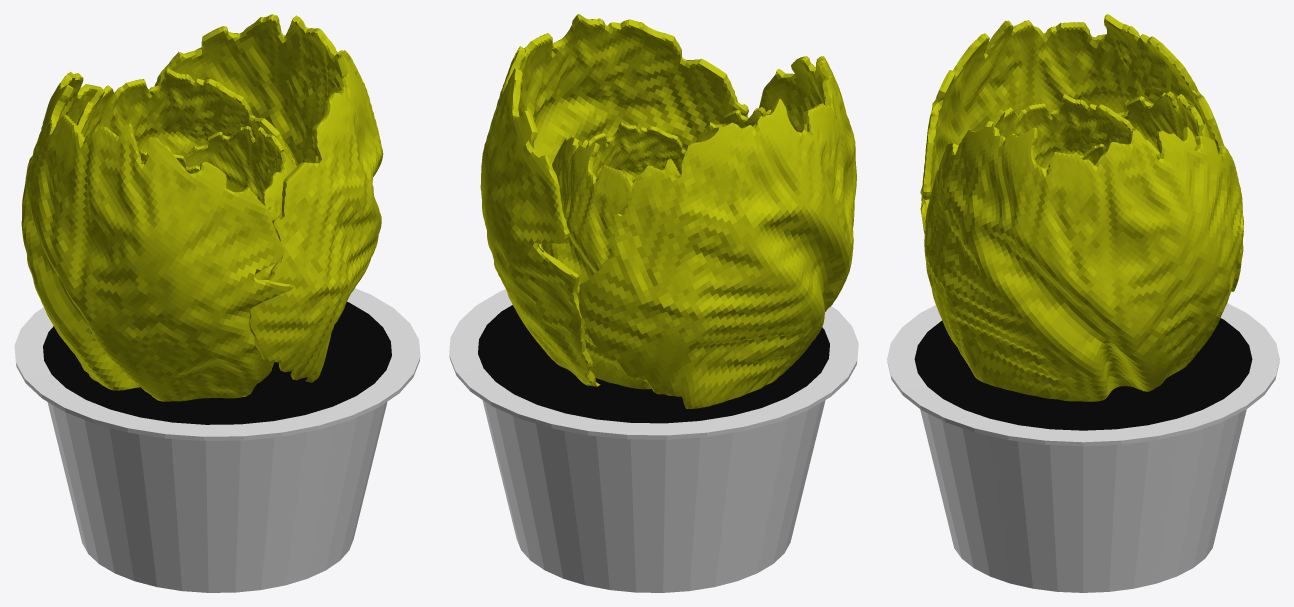
The model's file is FARM2.fbx_Salad.fbx.
3 views of the same model, side by side, from view 1: azimuth 30°, elevation 25°; view 2: azimuth 150°, elevation 25°; view 3: azimuth 270°, elevation 25° (orthographic). The views are drawn at different scales.
Visible parts, largest first — view 1: Salad, Pot, Ground; view 2: Salad, Pot, Ground; view 3: Salad, Pot, Ground.
Boxes of the visible parts, <box> form: Salad: <box>21,14,383,401</box>; Pot: <box>14,288,420,592</box>; Ground: <box>43,301,391,424</box>; Salad: <box>480,14,856,408</box>; Pot: <box>449,289,858,592</box>; Ground: <box>478,305,829,423</box>; Salad: <box>920,14,1243,401</box>; Pot: <box>887,303,1279,592</box>; Ground: <box>914,318,1252,430</box>.
Bounding box in the file's own units: 20.19 × 25.76 × 20.
